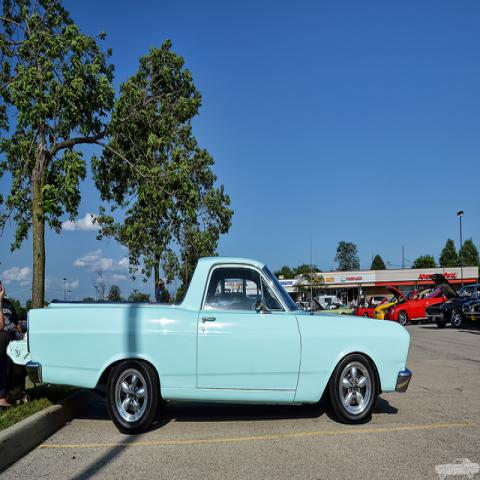car: (385, 286, 446, 325), (426, 274, 458, 328), (312, 298, 352, 316), (373, 295, 399, 319), (356, 298, 387, 317), (369, 297, 389, 304)
truck: (8, 256, 414, 434)
